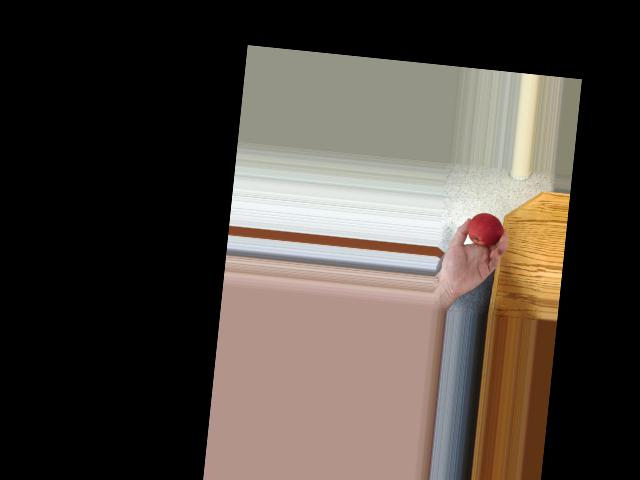apple: (462, 210, 505, 252)
